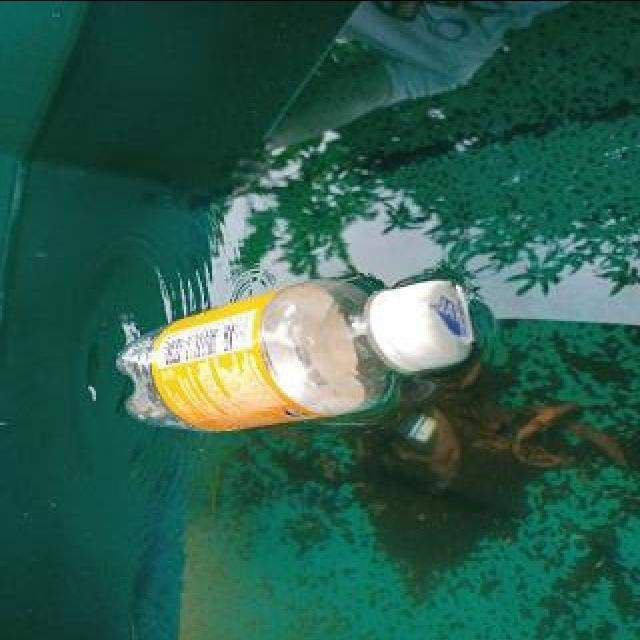Bottle: (110, 268, 478, 436)
